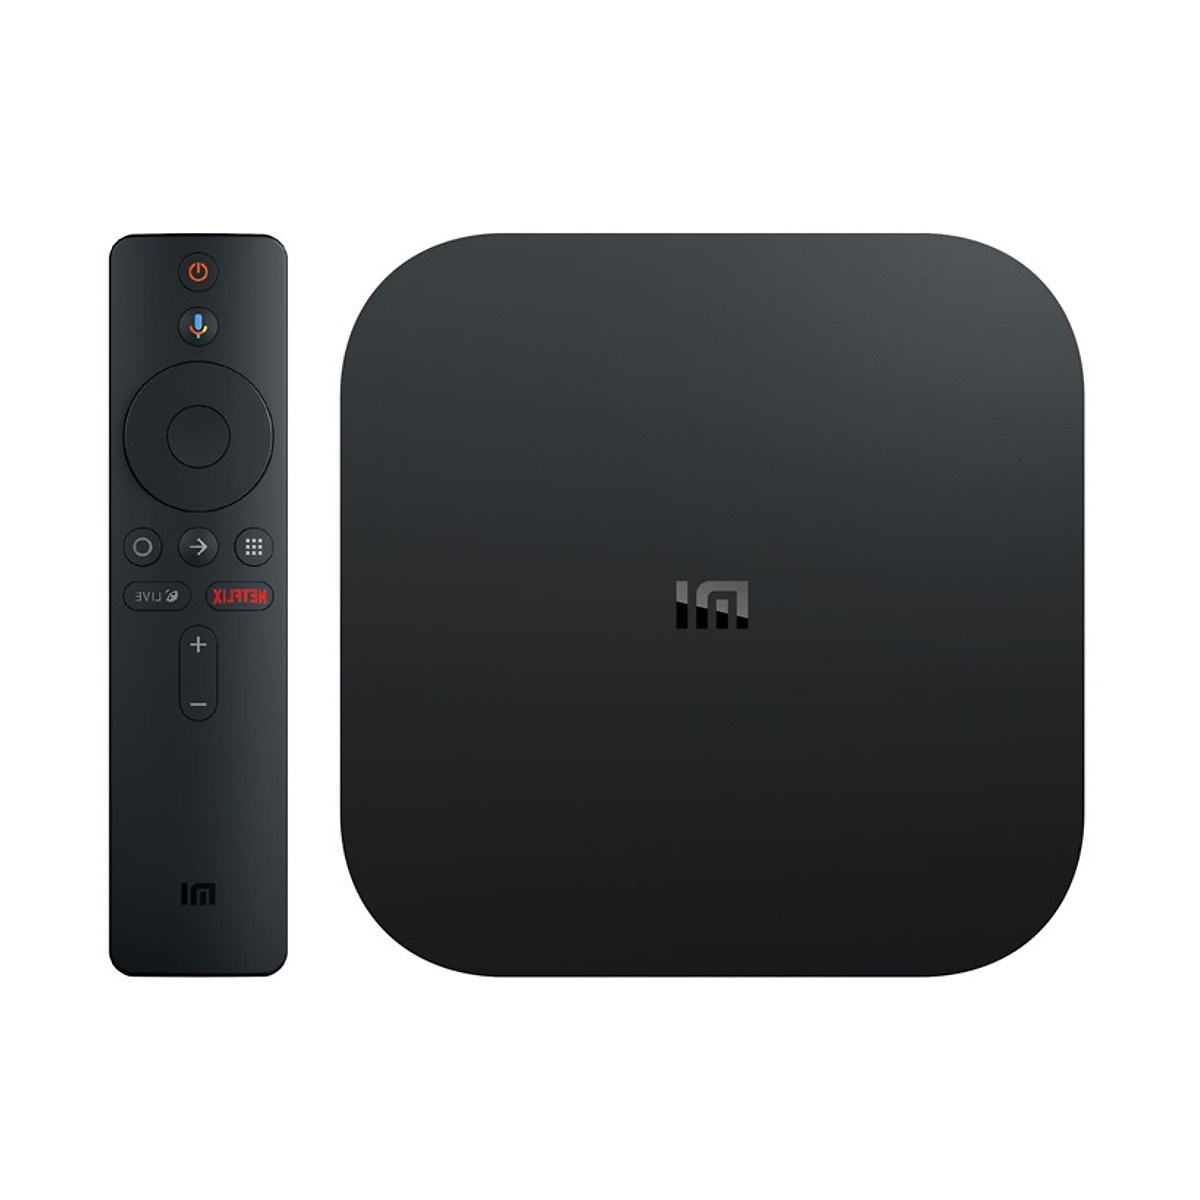Xiaomi: (486, 527, 834, 762)
